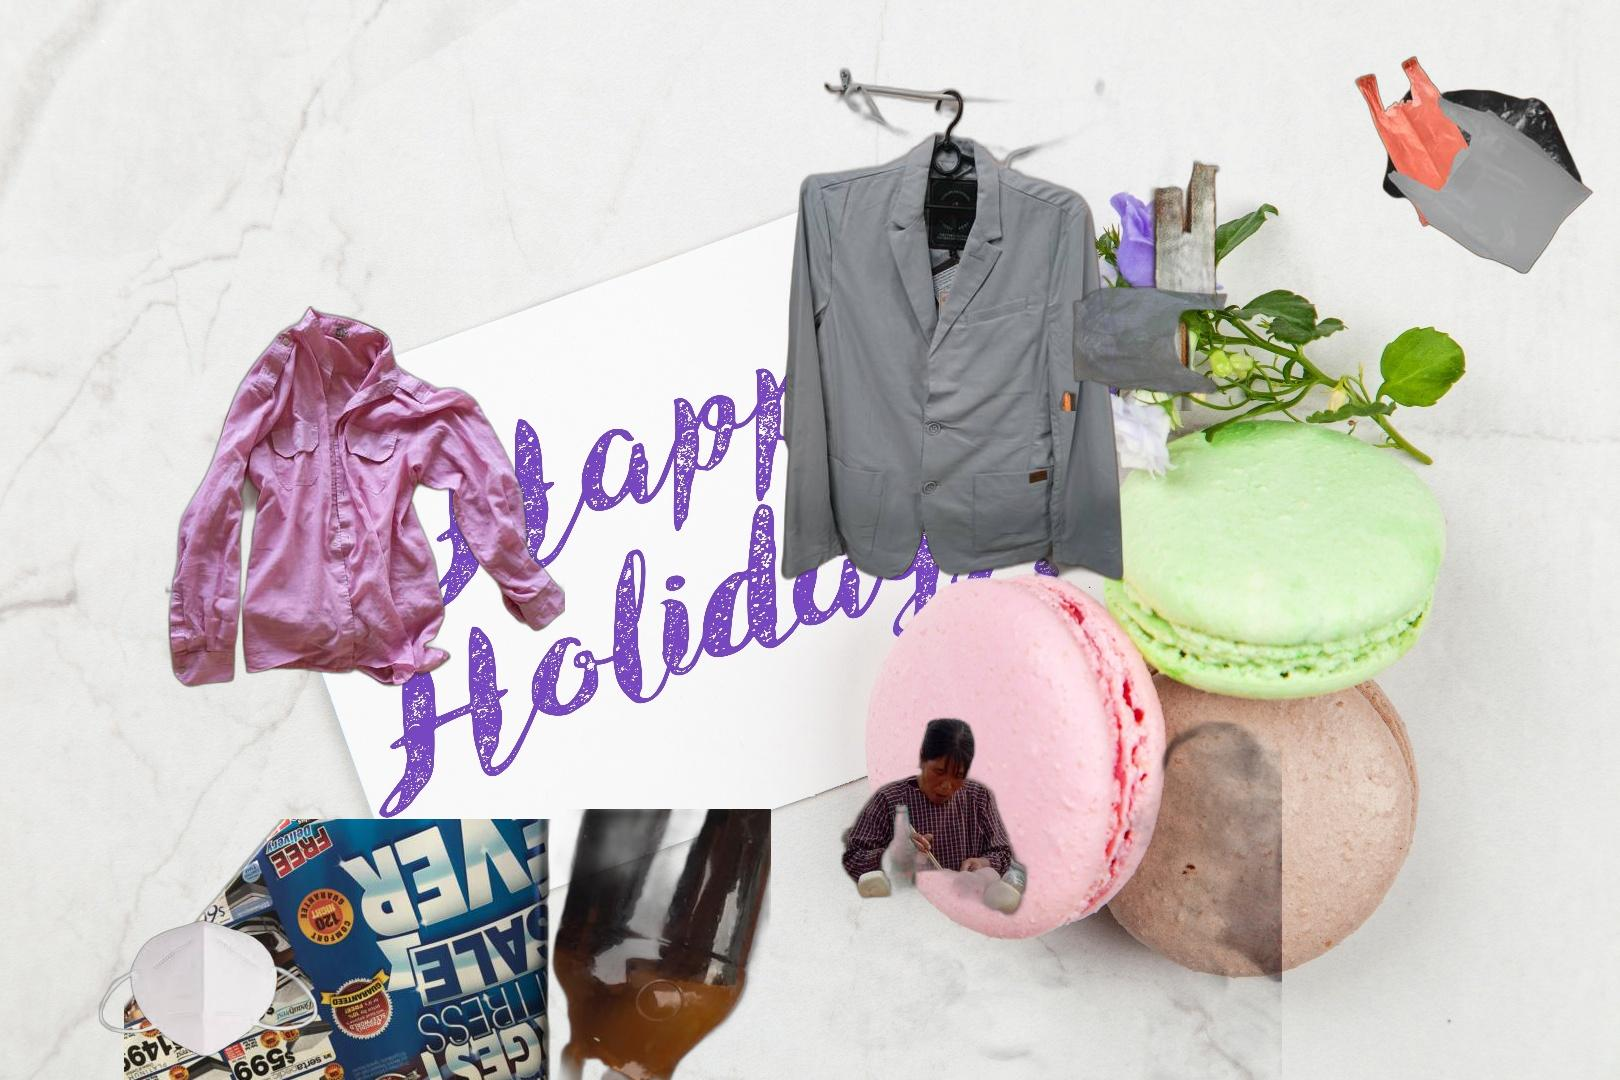biological: (642, 711, 1282, 1080)
clothes: (777, 61, 1127, 587), (165, 306, 565, 691)
glass: (521, 809, 771, 1080)
paper: (124, 818, 554, 1080)
plastic-bag: (1055, 154, 1281, 411), (1351, 54, 1595, 276)
trash: (96, 918, 319, 1060)
